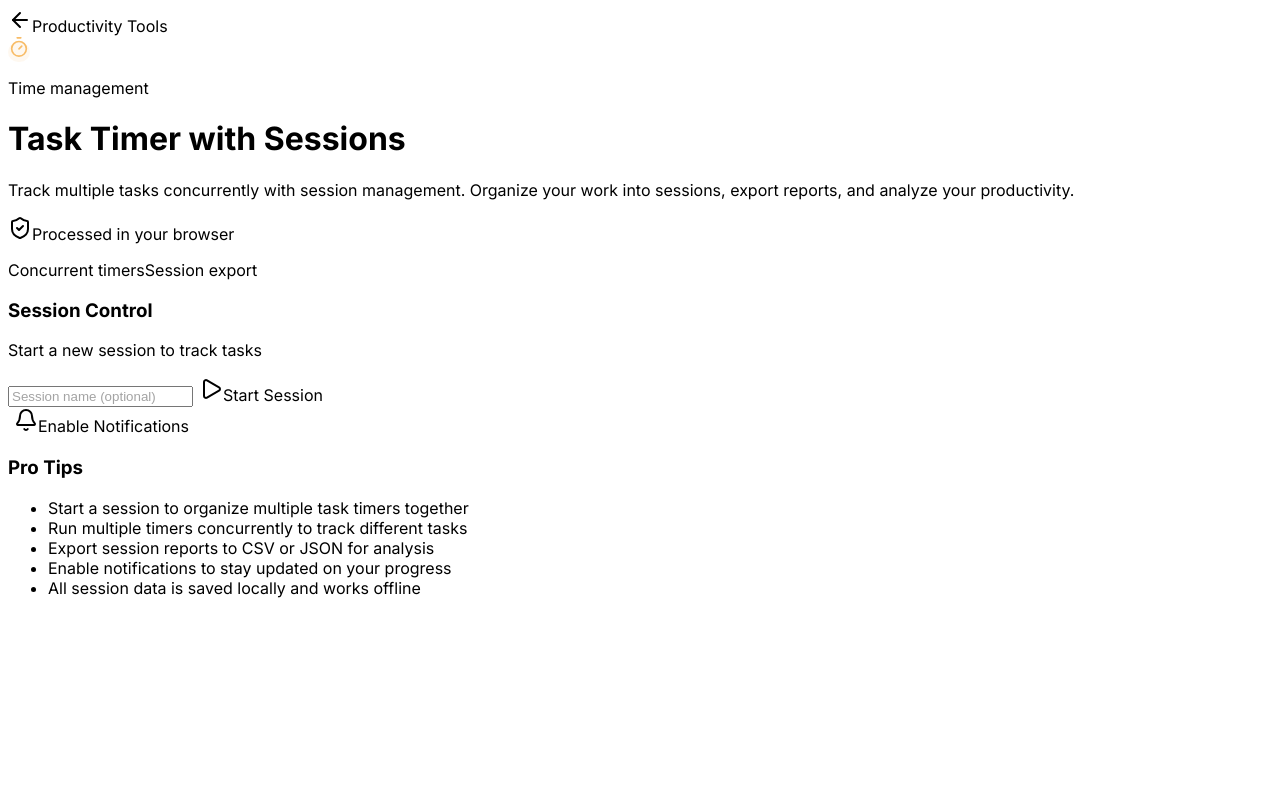
Scenario: Task Timer Page - Component Tests › should start a new session
The width and height of the screenshot is (1280, 800).
Click the button "Start Session" at (261, 391), box [193,376,329,406]
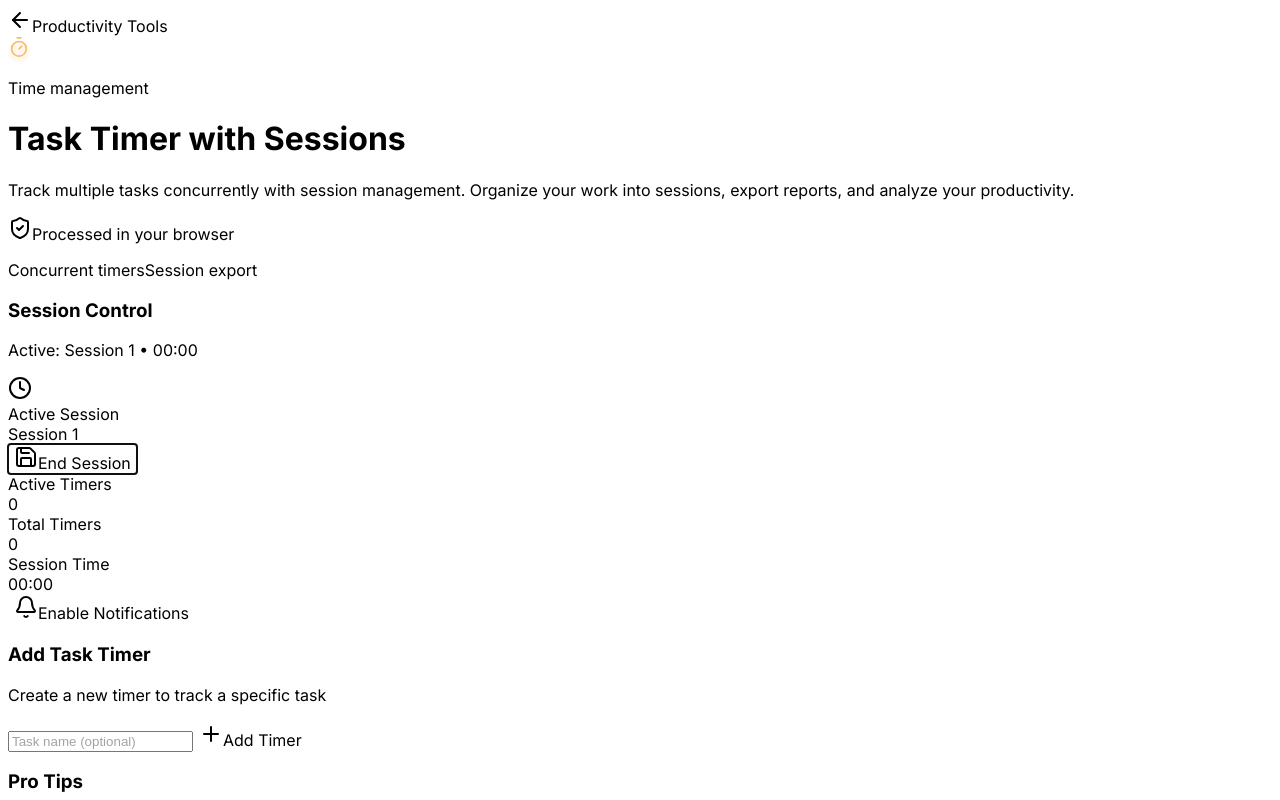
expect the button "End Session" is shown: met, box [8,444,137,474]
